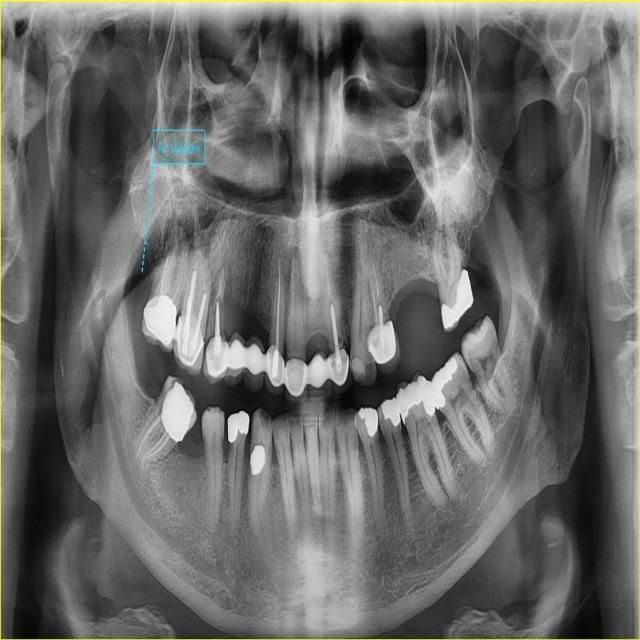Caries: (228, 441, 235, 457)
Crown: (140, 297, 176, 353), (172, 312, 204, 372), (367, 319, 401, 375), (243, 335, 265, 392), (202, 338, 229, 384), (308, 351, 332, 402), (224, 333, 245, 385), (285, 356, 308, 403), (329, 349, 352, 394), (264, 343, 284, 394)
Filling: (440, 269, 473, 330), (161, 380, 194, 441), (397, 375, 435, 424), (432, 357, 457, 409), (228, 410, 249, 443), (358, 407, 378, 437), (381, 397, 401, 426), (250, 445, 266, 476), (352, 358, 364, 375), (271, 350, 278, 379)
Missing teeth: (388, 278, 446, 359), (178, 420, 204, 455)
Periapical lesion: (197, 236, 211, 258), (190, 235, 195, 252)
Root Canal Treatment: (136, 411, 162, 460), (170, 240, 184, 302), (165, 248, 177, 295), (146, 433, 170, 456), (159, 256, 169, 296), (146, 430, 164, 452), (371, 259, 380, 300), (276, 262, 280, 348), (325, 256, 330, 296), (218, 276, 221, 295)
